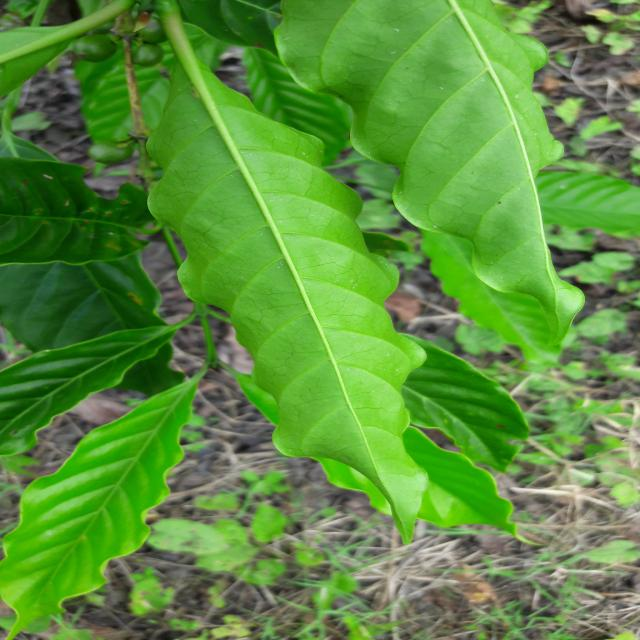Sanas: (140, 2, 464, 544)
